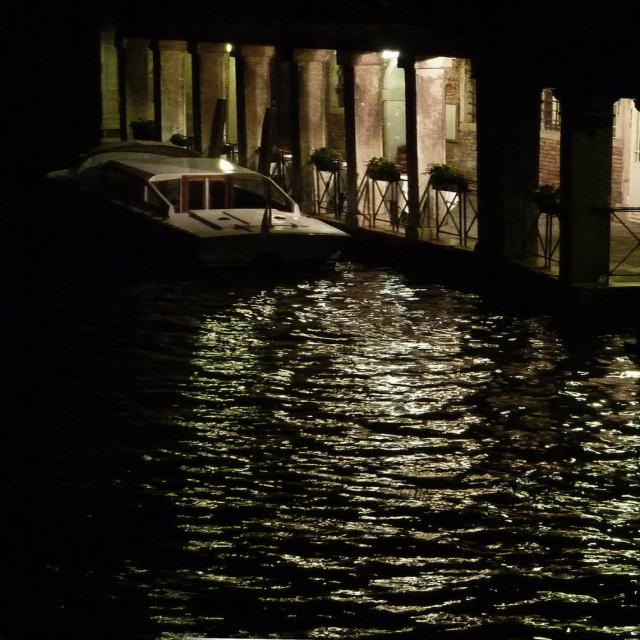Boat: (46, 116, 411, 291)
